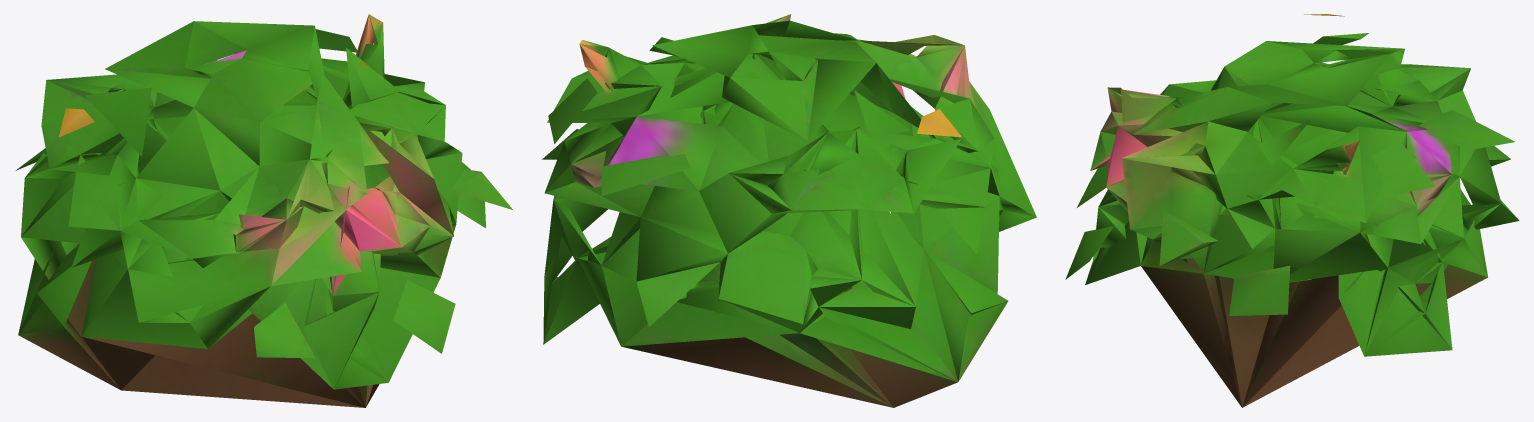
Rendered from bush.glb.
3 renders of one model, left to right at view 1: azimuth 30°, elevation 25°; view 2: azimuth 150°, elevation 25°; view 3: azimuth 270°, elevation 25°, orthographic. The views are drawn at different scales.
Parts seen in each view (by area): view 1: model; view 2: model; view 3: model.
Boxes of the visible parts, x1,y1,x2,y2 form: model: (15,14,512,407); model: (542,14,1036,407); model: (1065,14,1519,407).
Size of the model in its own units: 1.65 by 1.28 by 1.68.
Materials: 1 (1 with a texture image).
